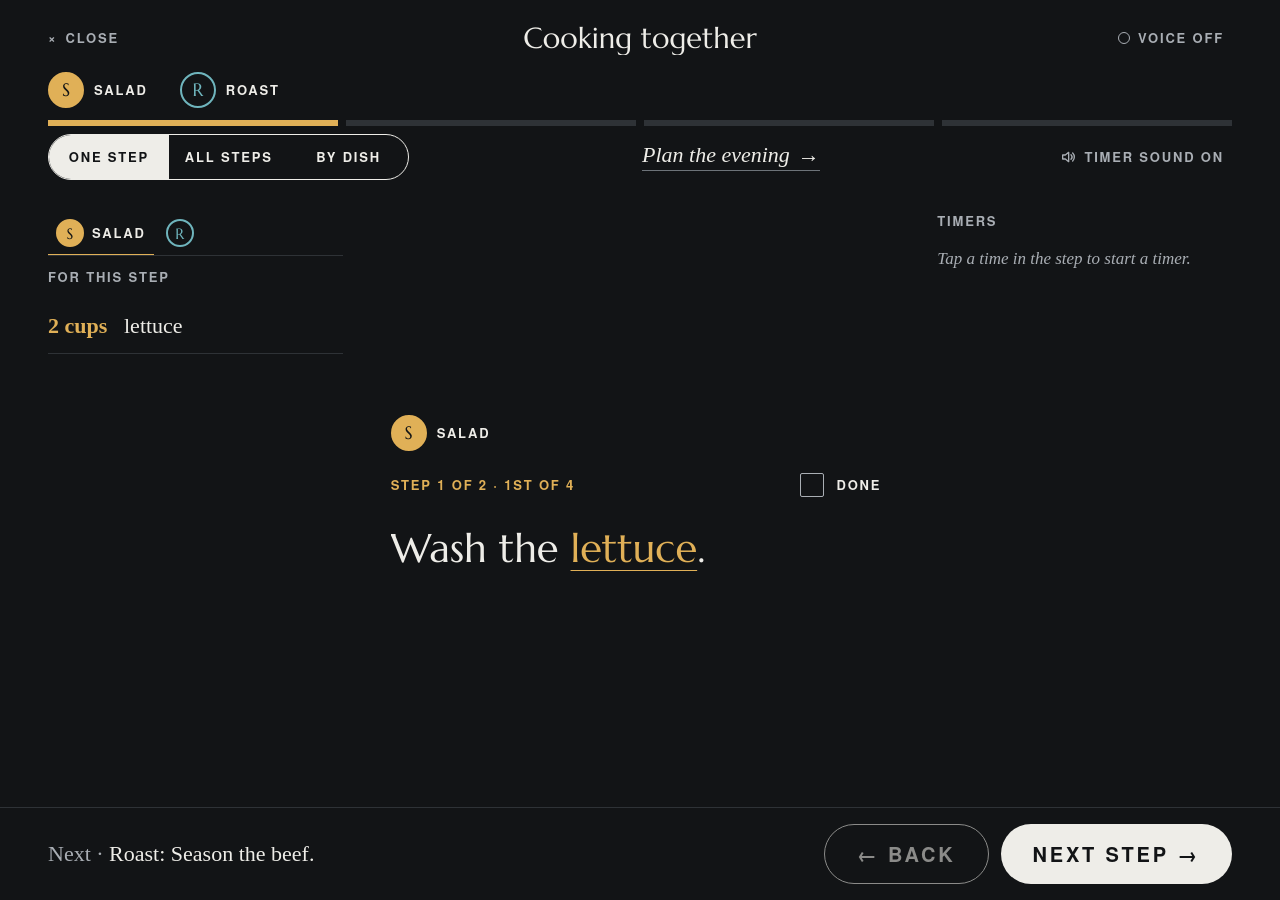
Test case: Plan the evening › keeps the cook's order on Keep my order
Click the button "Plan the evening →": coordinates (731, 157) [642,135,820,179]
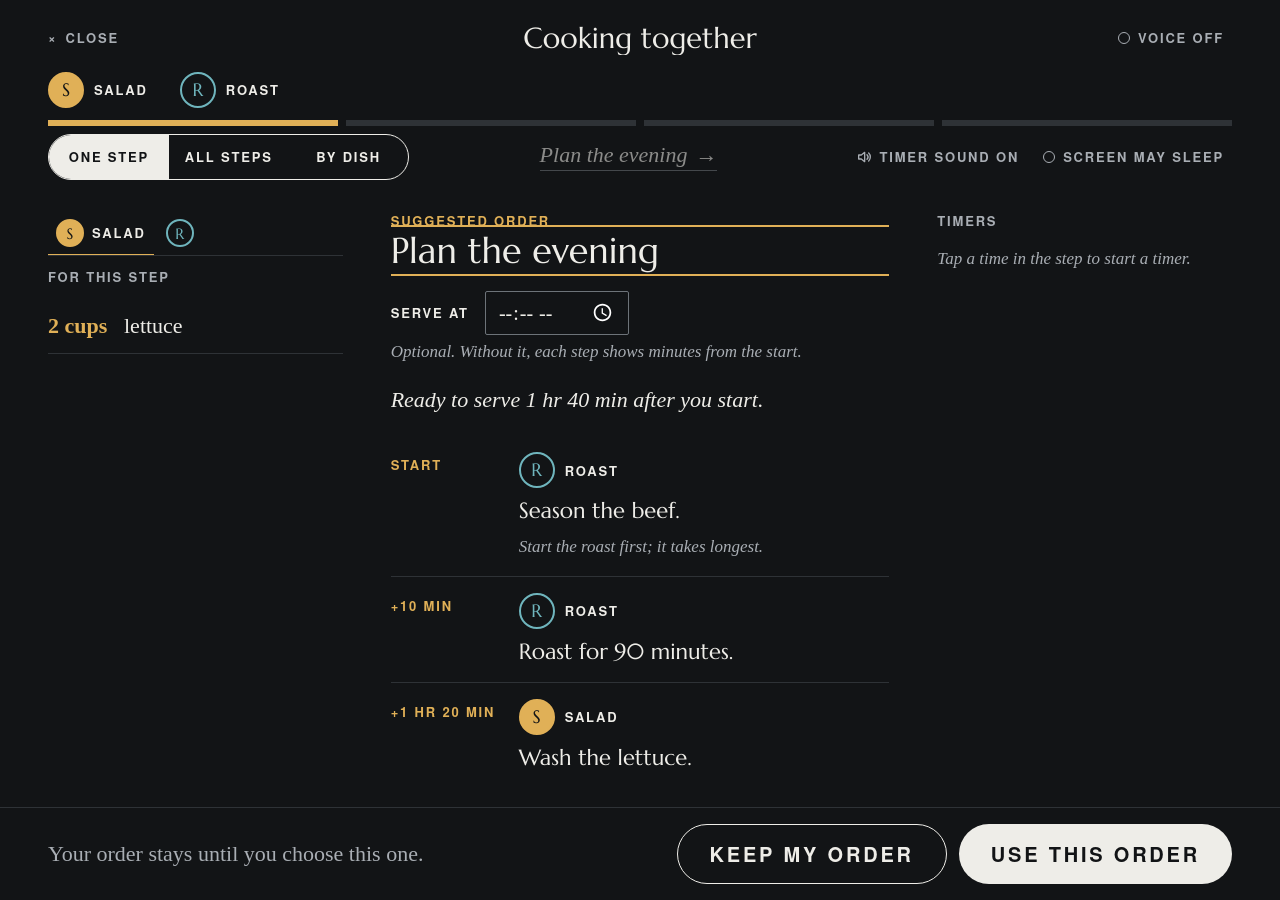
Expected: the list named "Suggested order" is shown, [391,436,889,775]
Click the button "Keep my order": coordinates (812, 854) [677,824,947,884]
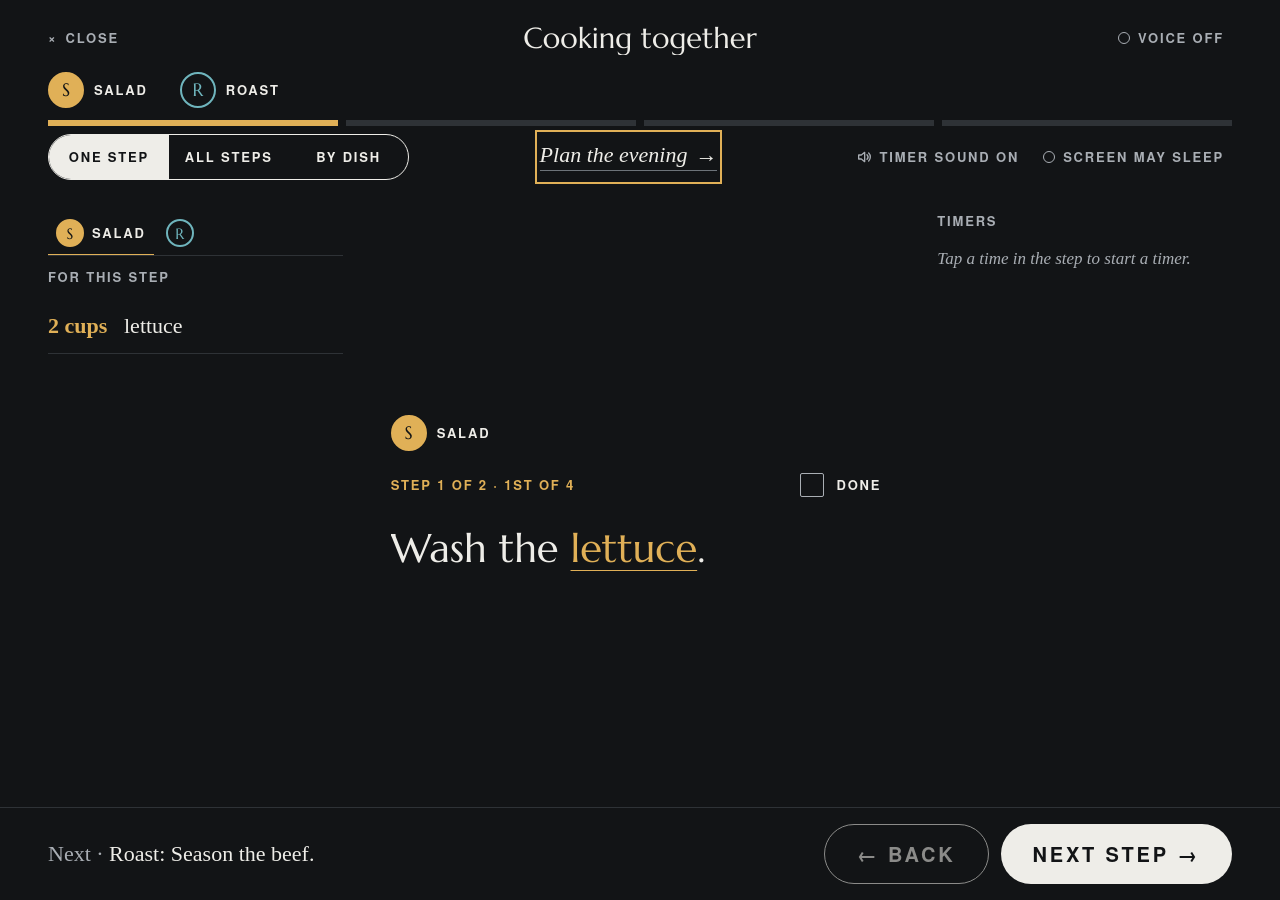
Expected: the text "Wash the lettuce." is shown, [391,522,705,572]
Expected: the text "Suggested order" is gone
Expected: the button "Plan the evening →" is enabled, [540,135,717,179]
